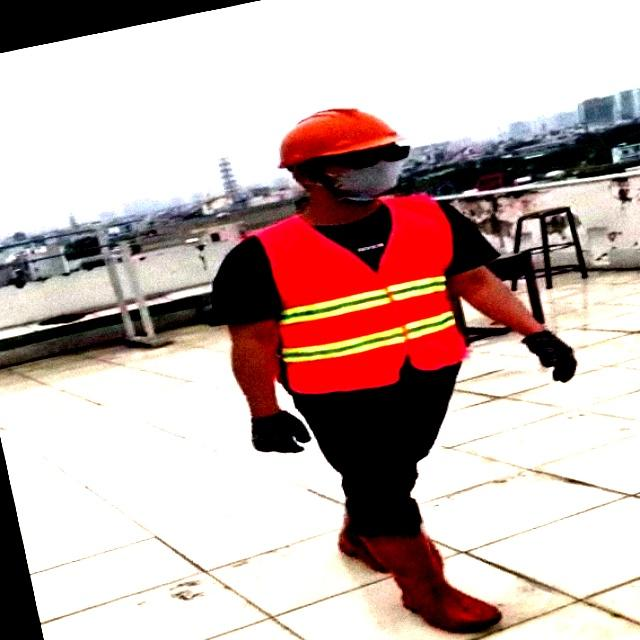helmet: (273, 99, 410, 165)
safety_vest: (248, 189, 470, 406)
